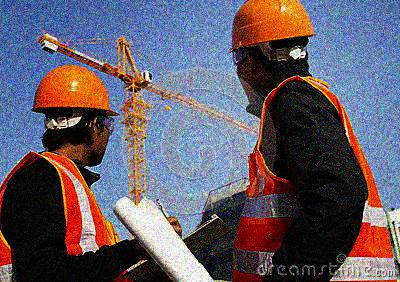helmet: (30, 62, 119, 166), (228, 1, 315, 97)
